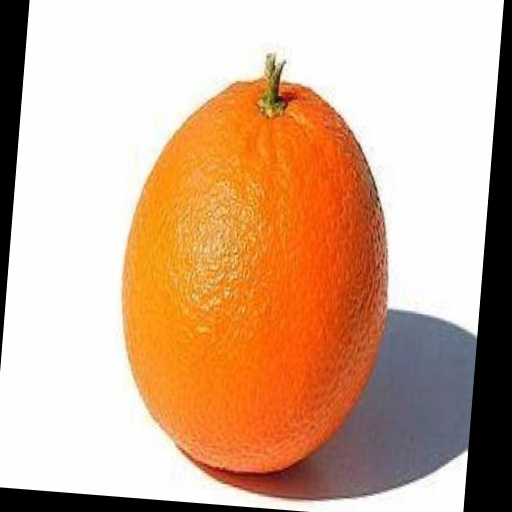fruit: (123, 56, 387, 472)
